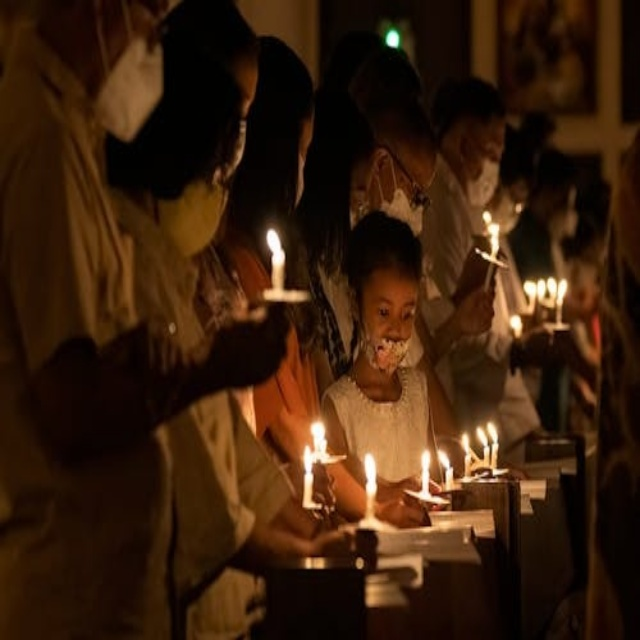Gafas: (380, 138, 430, 206)
Mascara: (88, 38, 170, 148), (360, 313, 416, 382), (374, 183, 428, 250), (207, 110, 252, 183), (462, 146, 499, 213), (285, 148, 319, 219), (495, 190, 524, 246)
Sin_gafas: (365, 294, 420, 331)
Sin_guantes: (183, 290, 294, 398), (371, 446, 444, 530), (278, 440, 344, 511), (293, 519, 369, 577), (453, 269, 498, 340)
